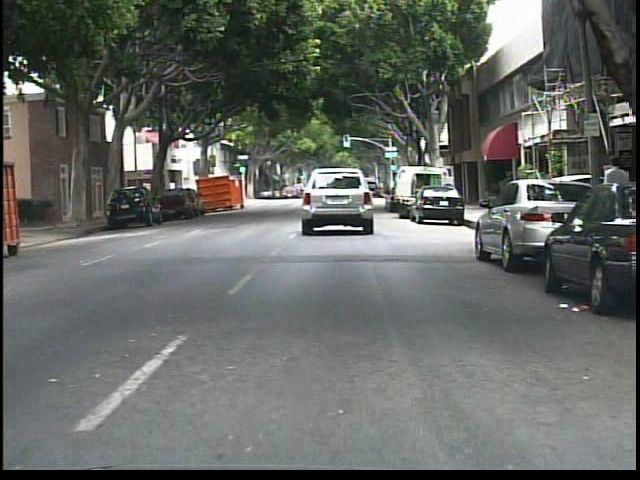person: (595, 150, 632, 250)
